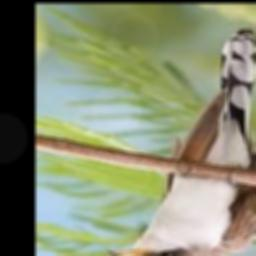Cuckoo: (108, 29, 256, 256)
